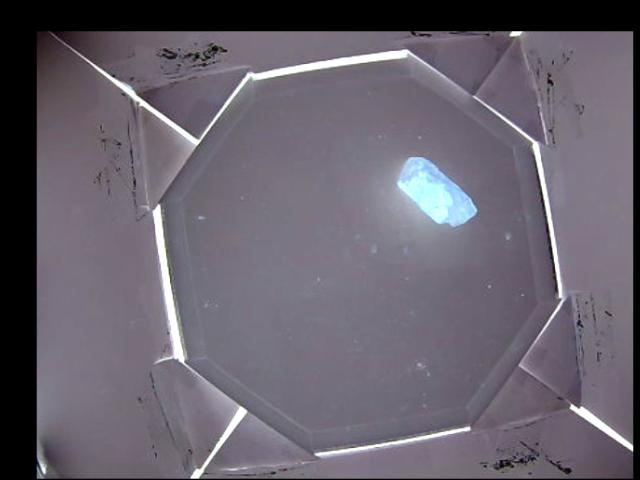Brisk: (397, 156, 478, 226)
